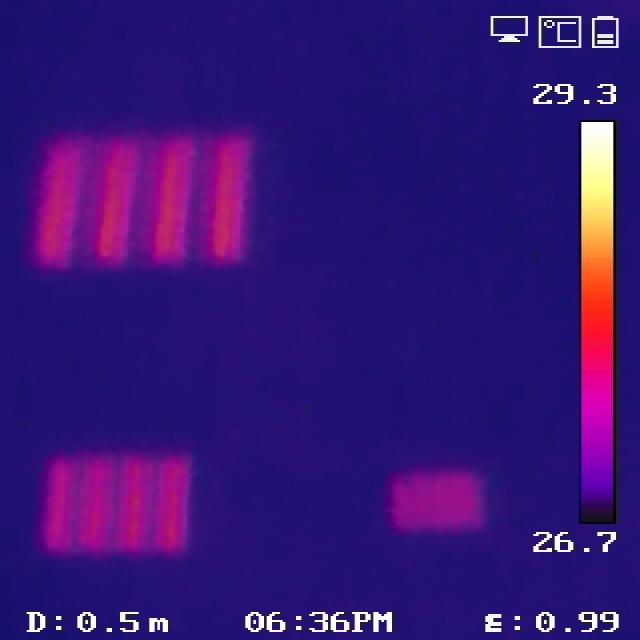Distinguishable 4-bar target: (32, 133, 251, 261), (35, 455, 197, 552)
Indistinguishable 4-bar target: (385, 471, 479, 526)
